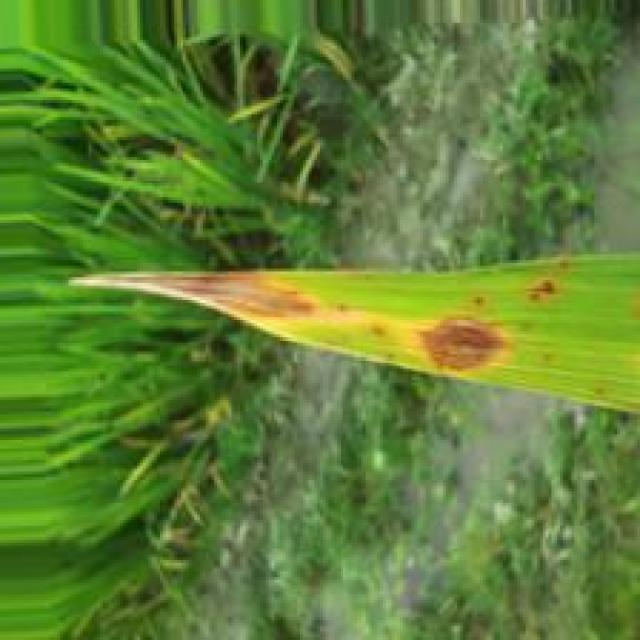Brown_Spot: (75, 269, 313, 321), (414, 320, 513, 378), (528, 262, 571, 301)
